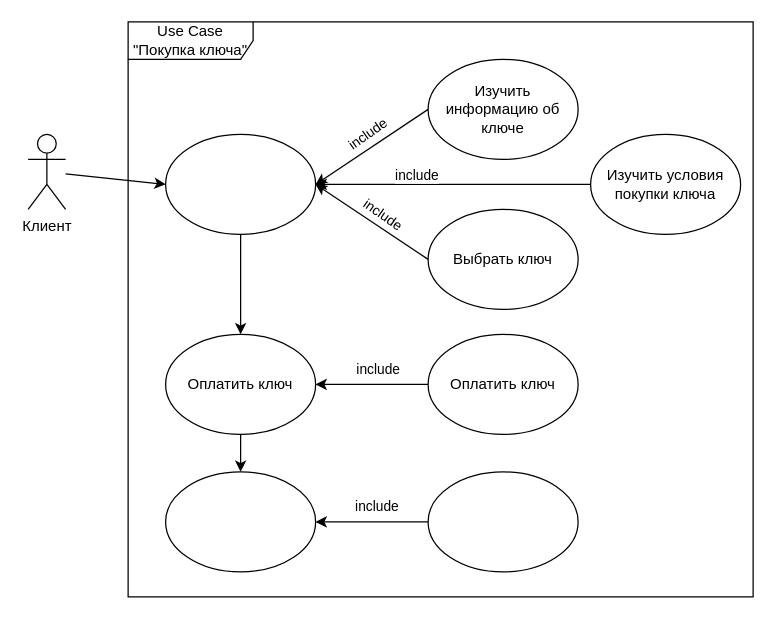
This 775x619 diagram has some shape labels left out. The shapes that lost their labels are listed below. From the top down, each one's box as (x1, y1, x2, y2) in pixels, then its label:
(164, 133, 316, 234): Зайти на сайт
(164, 471, 316, 572): Активировать ключ
(427, 471, 578, 572): Получить ключ на электронную почту
